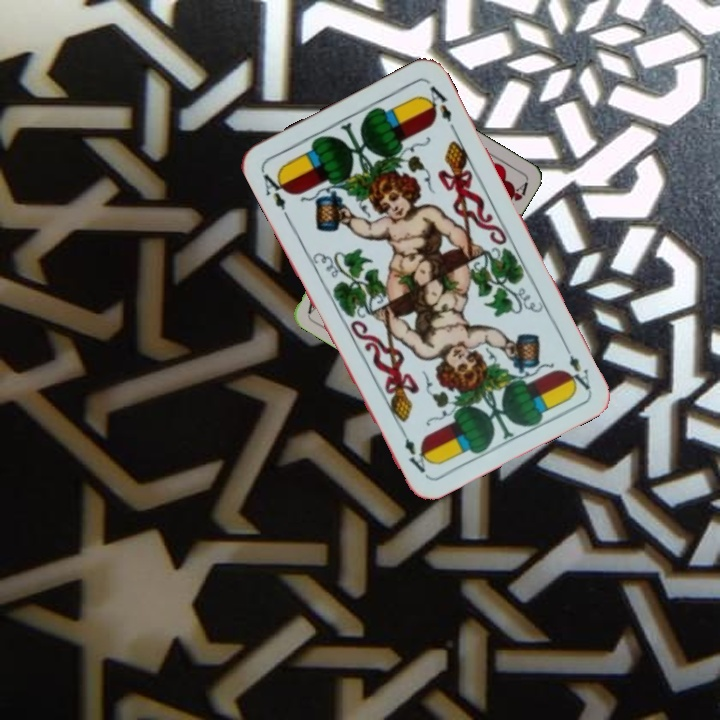EA: (257, 167, 292, 222), (559, 337, 593, 393)
